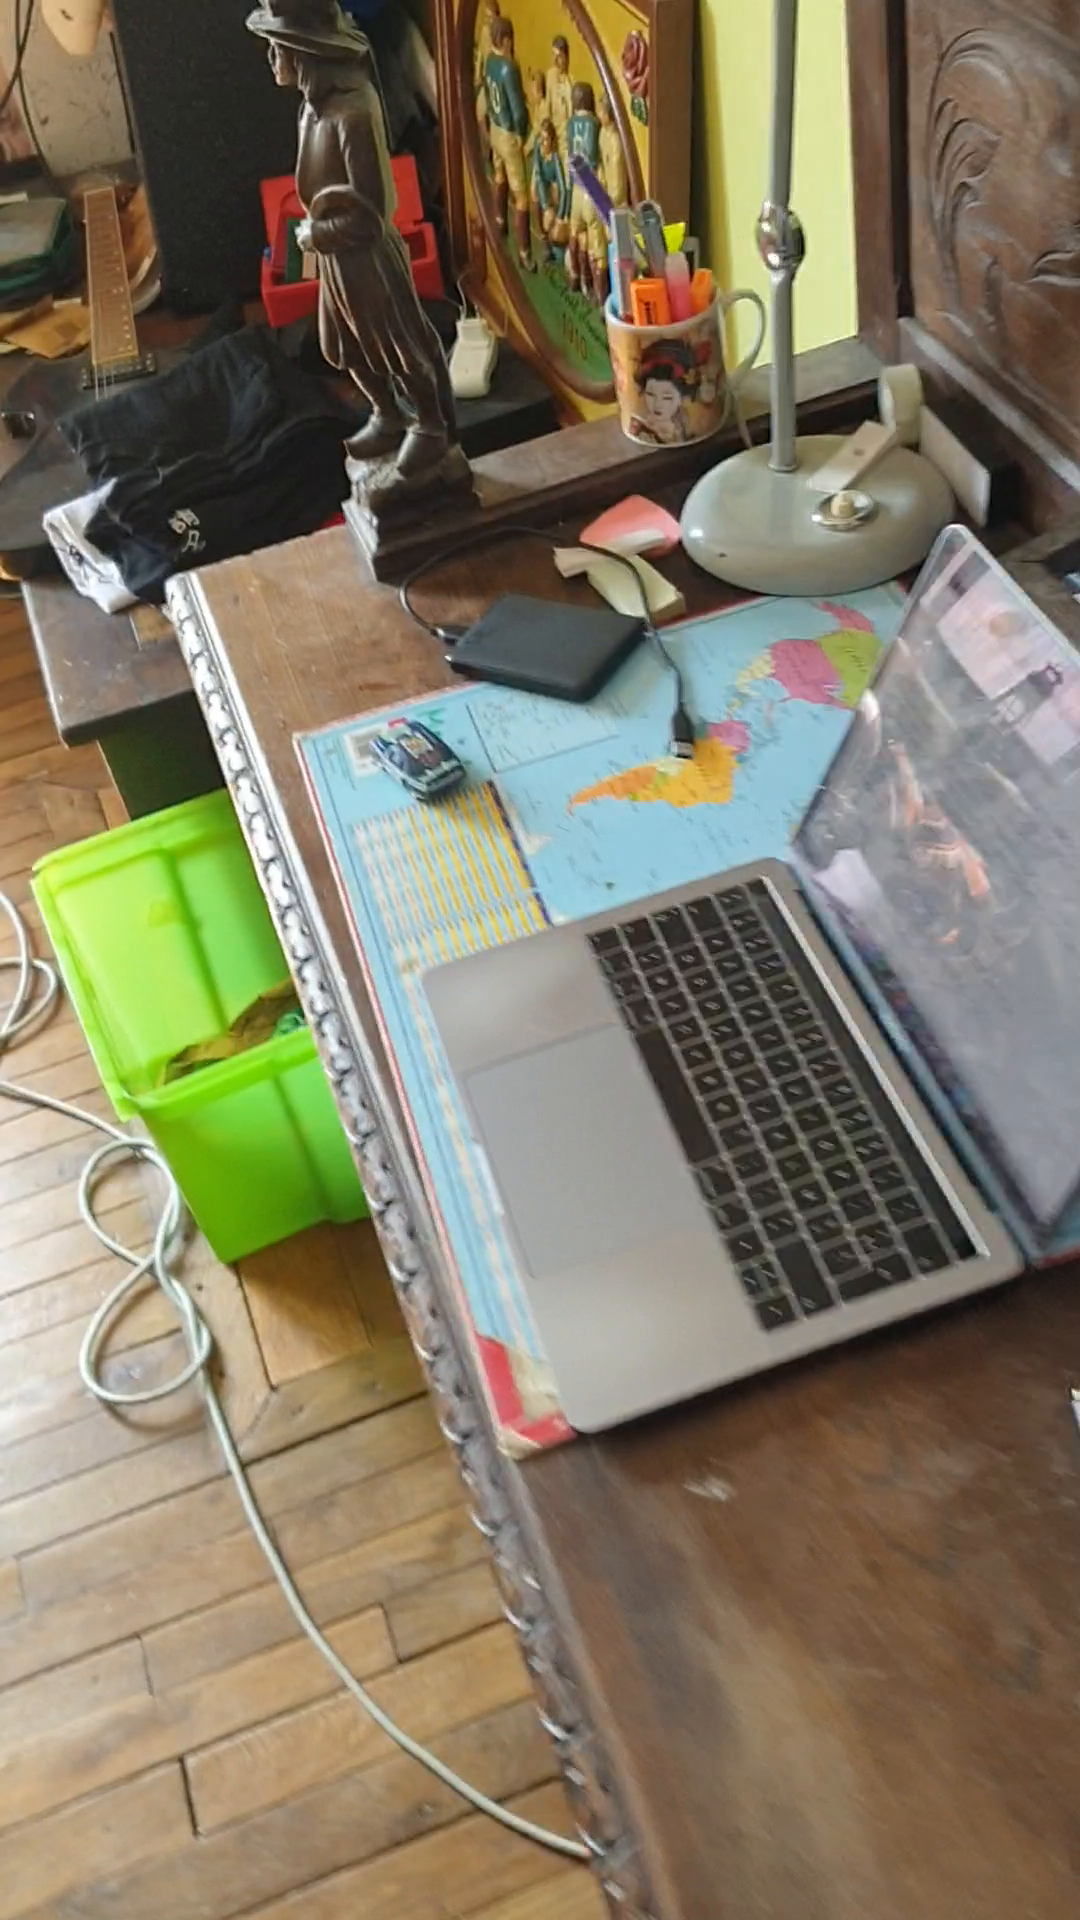cars: (369, 720, 465, 806)
